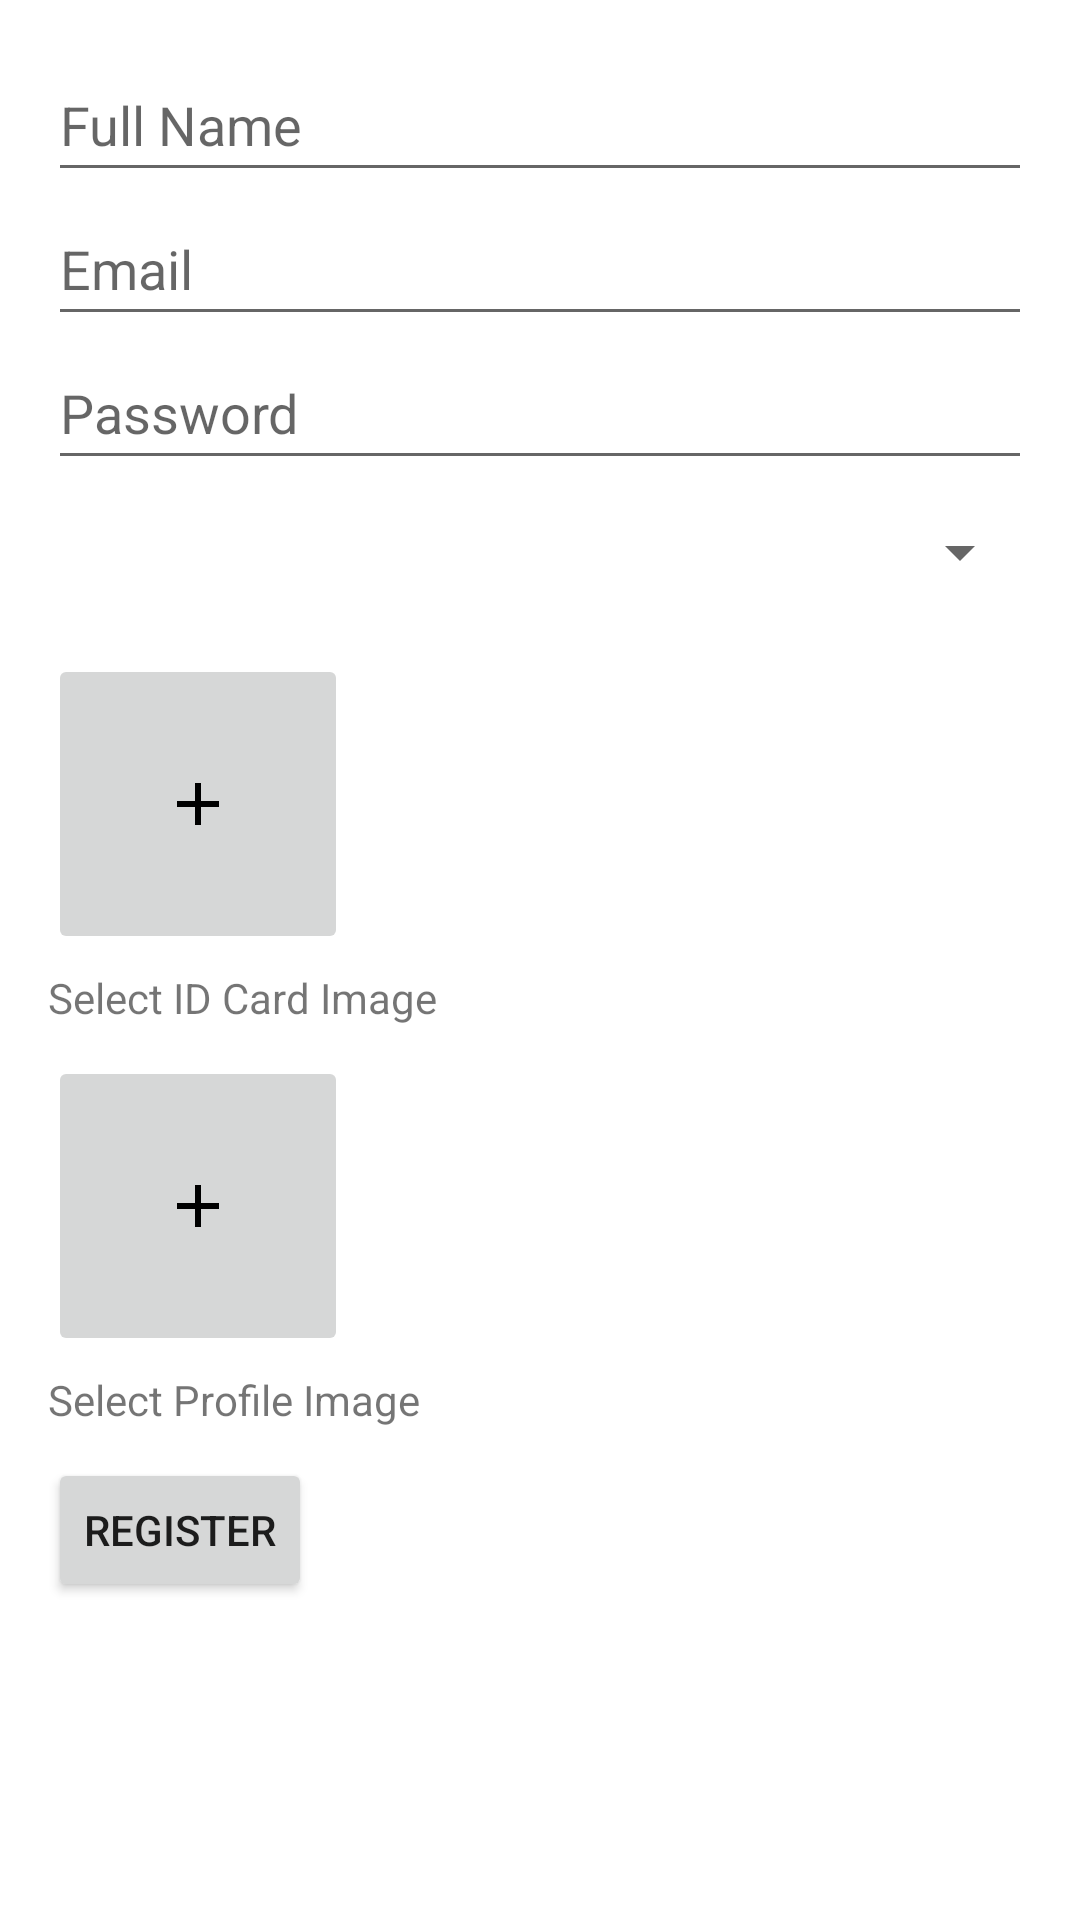

Icon click points for this 1080 × 1920 phone screenshot, format (x=x, y=y):
add: (x=198, y=804), (x=198, y=1206)
